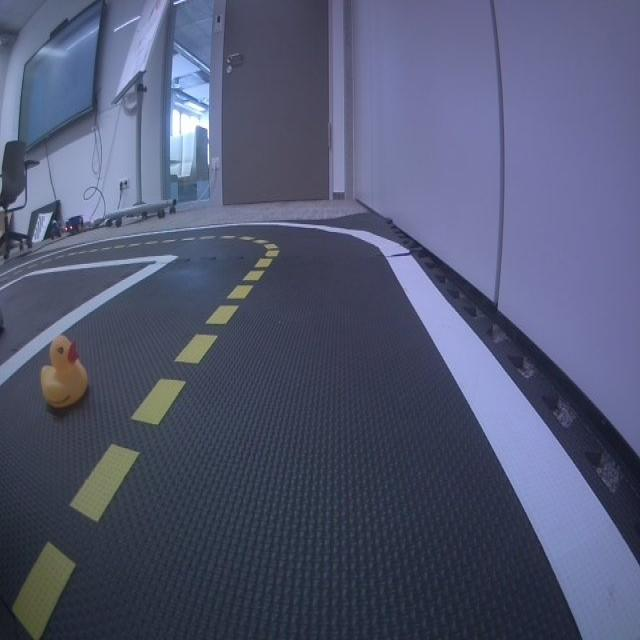duckie: (37, 334, 88, 415)
